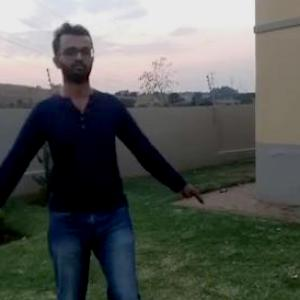land: (1, 38, 193, 297)
